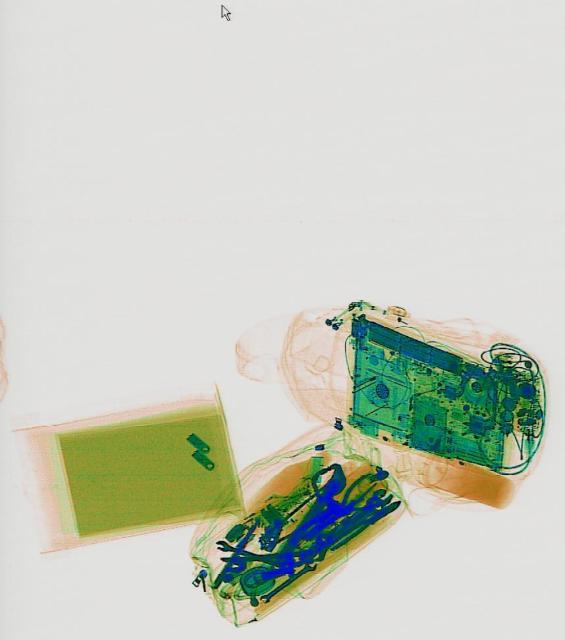Pliers: (311, 469, 388, 535)
Wrench: (256, 555, 317, 607), (214, 538, 287, 570)
